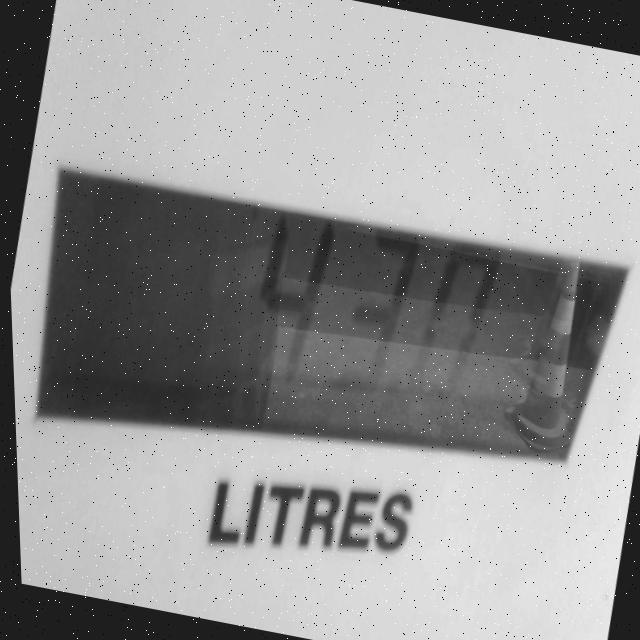.: (373, 356, 419, 426)
0: (402, 244, 508, 448)
3: (326, 220, 431, 410)
4: (220, 196, 341, 405)
